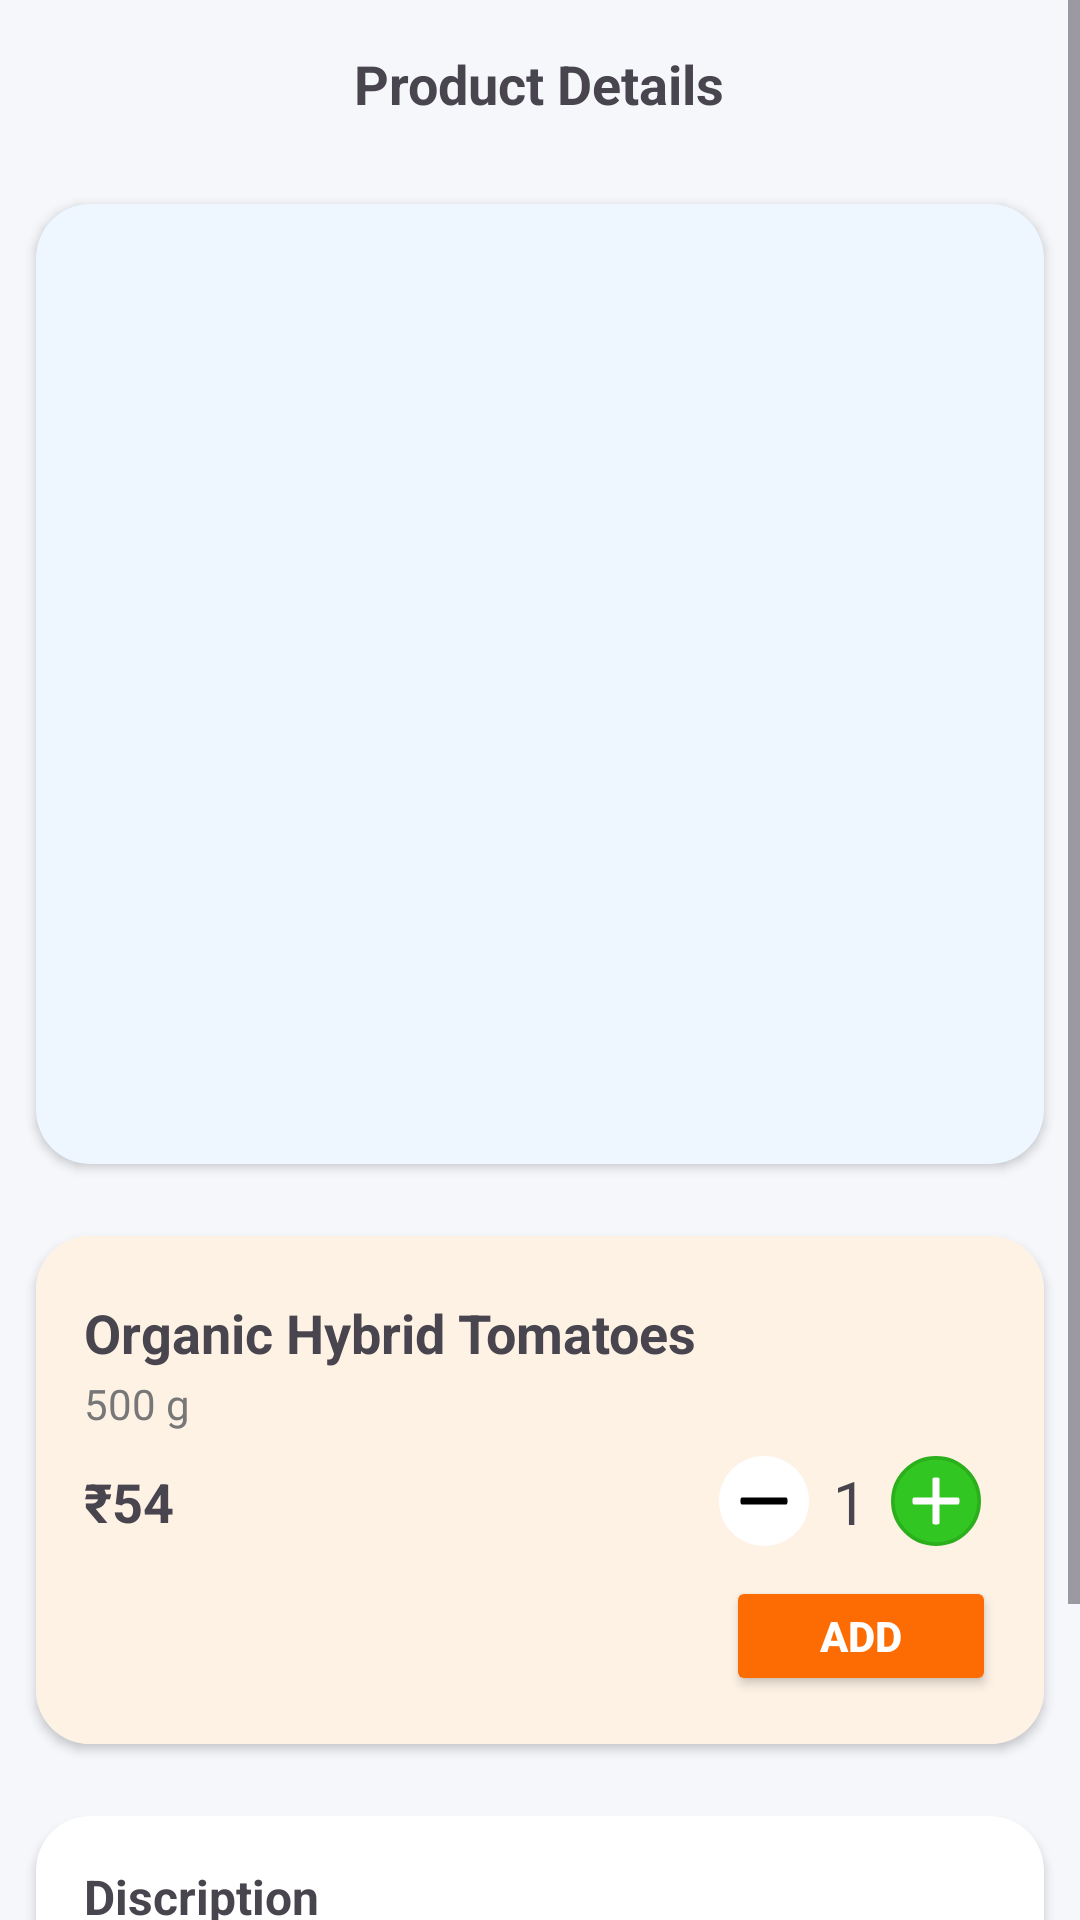

Screen size 1080w x 1920h. Icon name, then its center in pixels as point (x, y):
minus: point (764, 1501)
plus: point (936, 1501)
